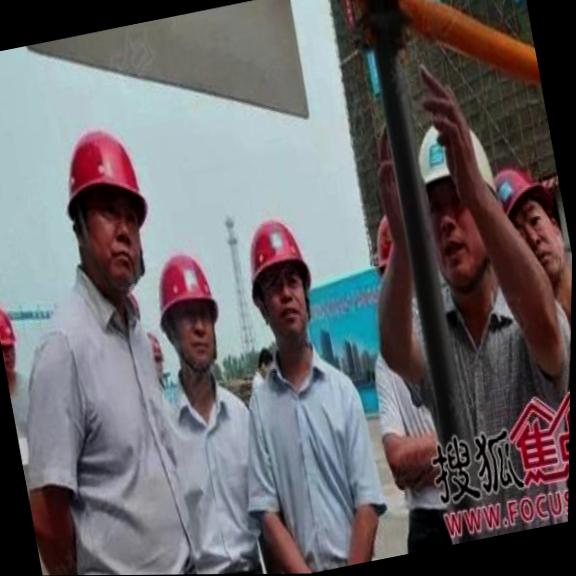no_safety_vest: (0, 252, 210, 576), (395, 264, 572, 546), (215, 335, 399, 574), (153, 363, 286, 575), (520, 271, 572, 521)
